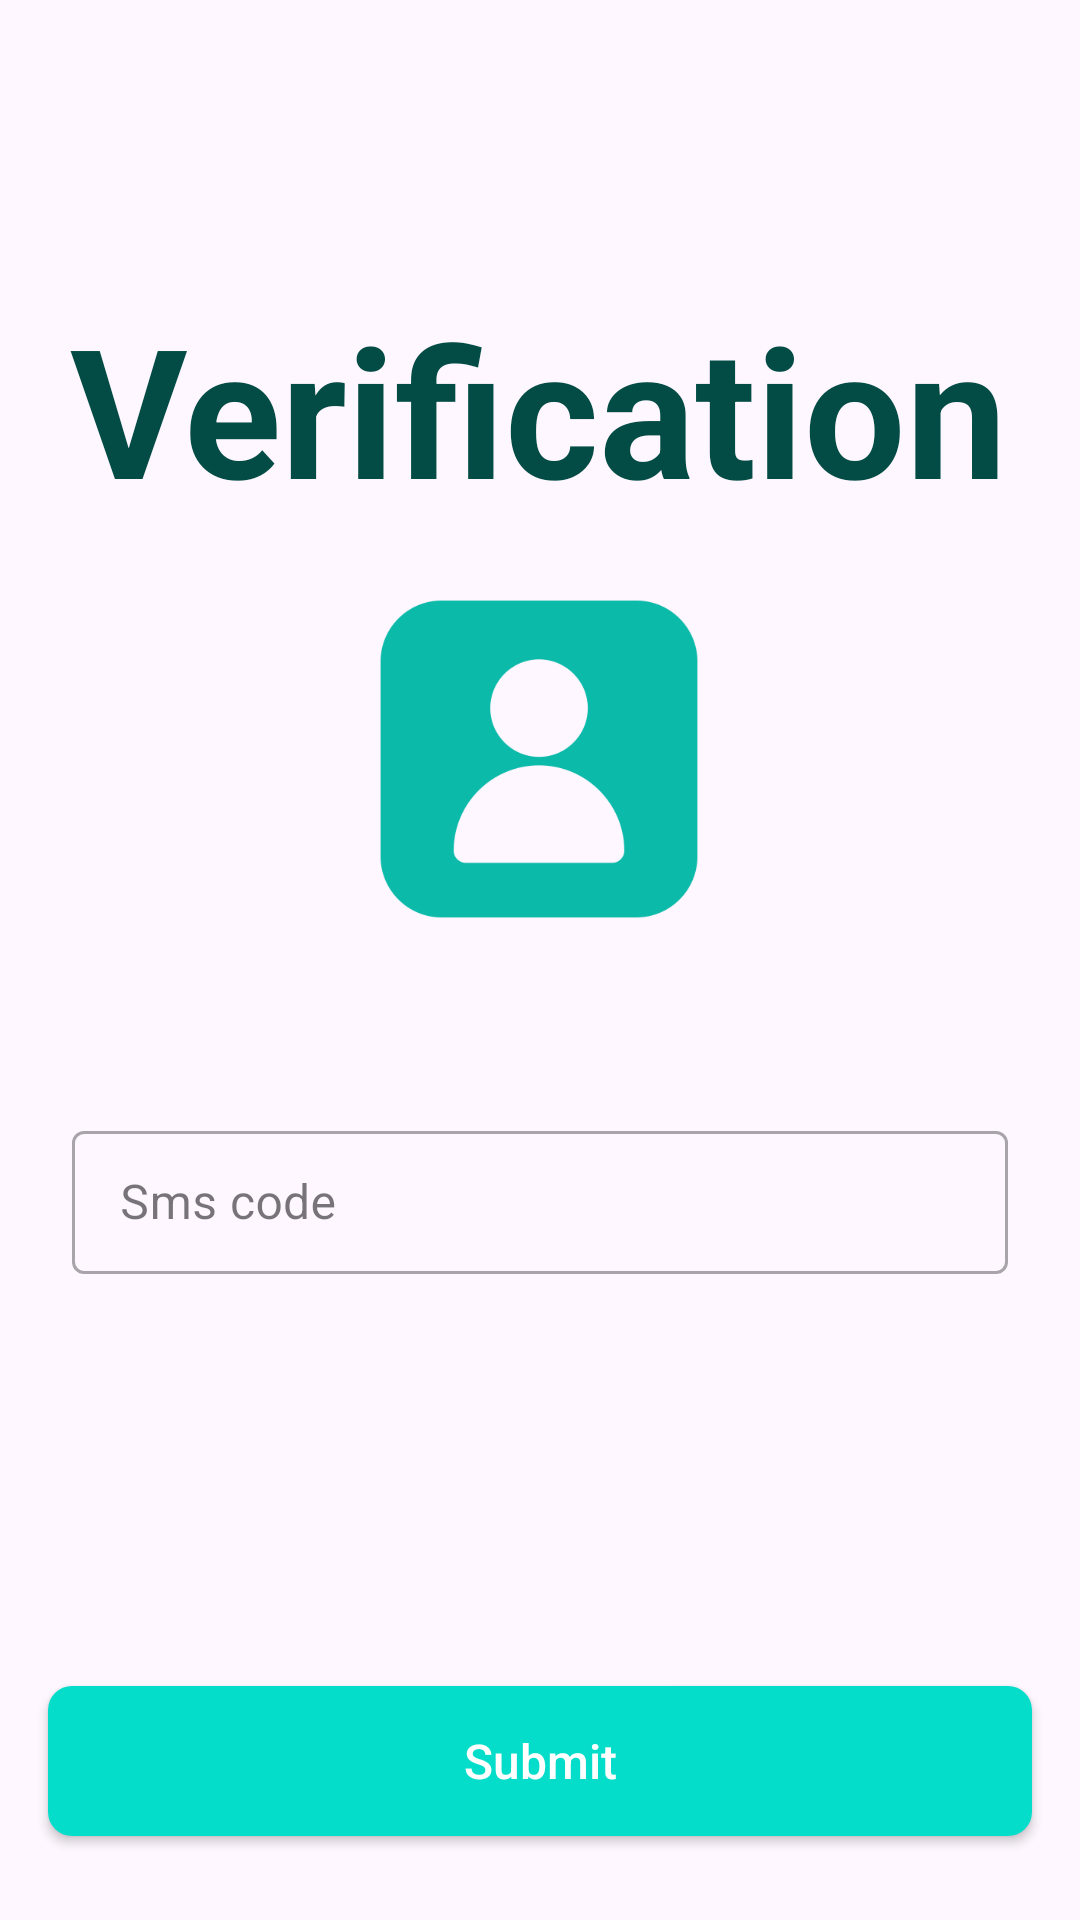

Icon bounding boxes for this 1080×1920 phone screenshot, format box=[x1, y1, x2, y2]:
contact: box=[380, 600, 698, 918]
